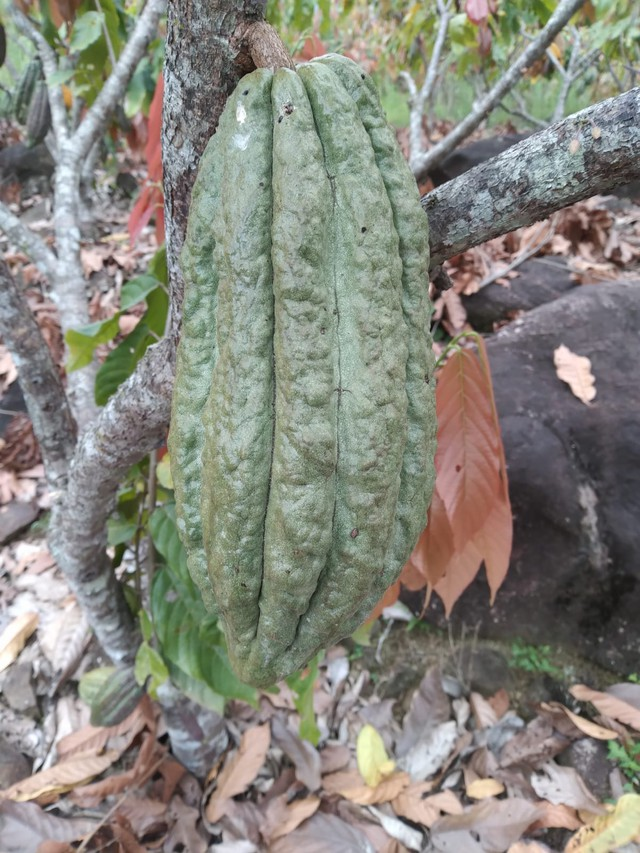Health: (151, 43, 449, 694)
